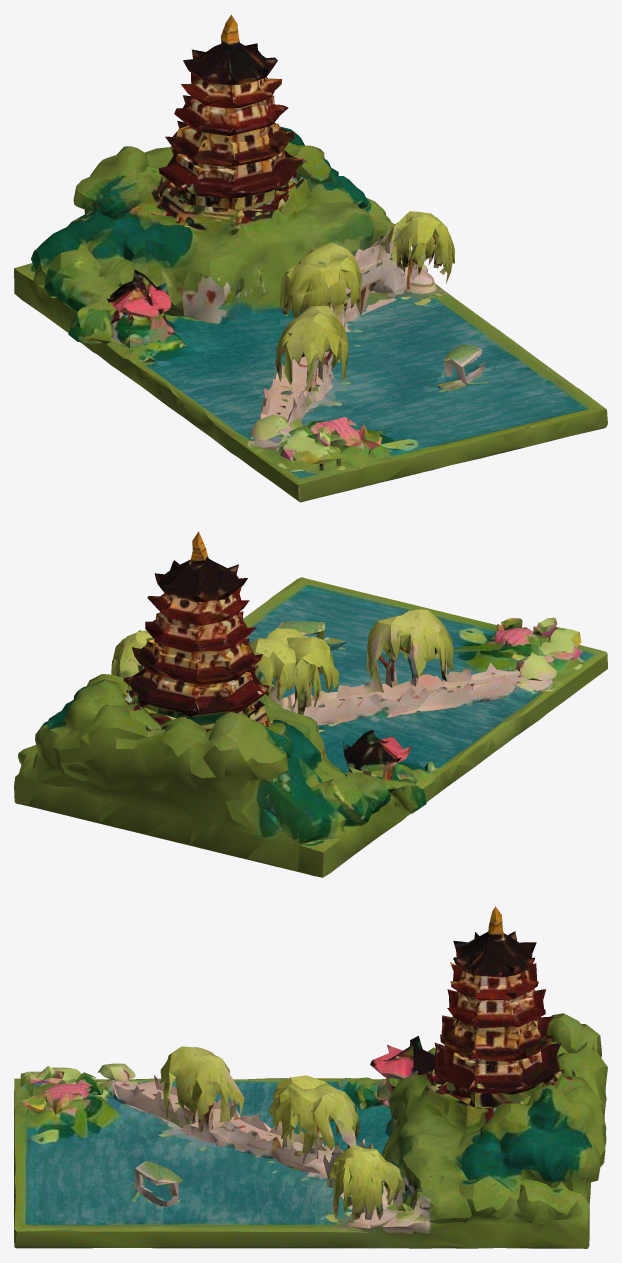
The model's file is west-lake-leifeng.glb.
The picture shows the model from 3 angles, top to bottom: view 1: azimuth 30°, elevation 25°; view 2: azimuth 150°, elevation 25°; view 3: azimuth 270°, elevation 25°; orthographic projection.
Parts seen in each view (by area): view 1: logan-textured.obj; view 2: logan-textured.obj; view 3: logan-textured.obj.
Boxes of the visible parts, x1=… form: logan-textured.obj: x1=14, y1=14, x2=607, y2=502; logan-textured.obj: x1=14, y1=531, x2=607, y2=877; logan-textured.obj: x1=14, y1=906, x2=607, y2=1248.
Bounding box in the file's own units: 0.676 × 0.5111 × 1.
1 material, 1 textured.
